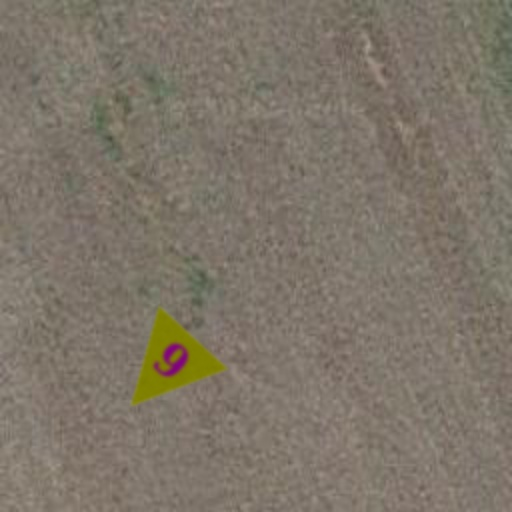triangle: (94, 304, 230, 440)
